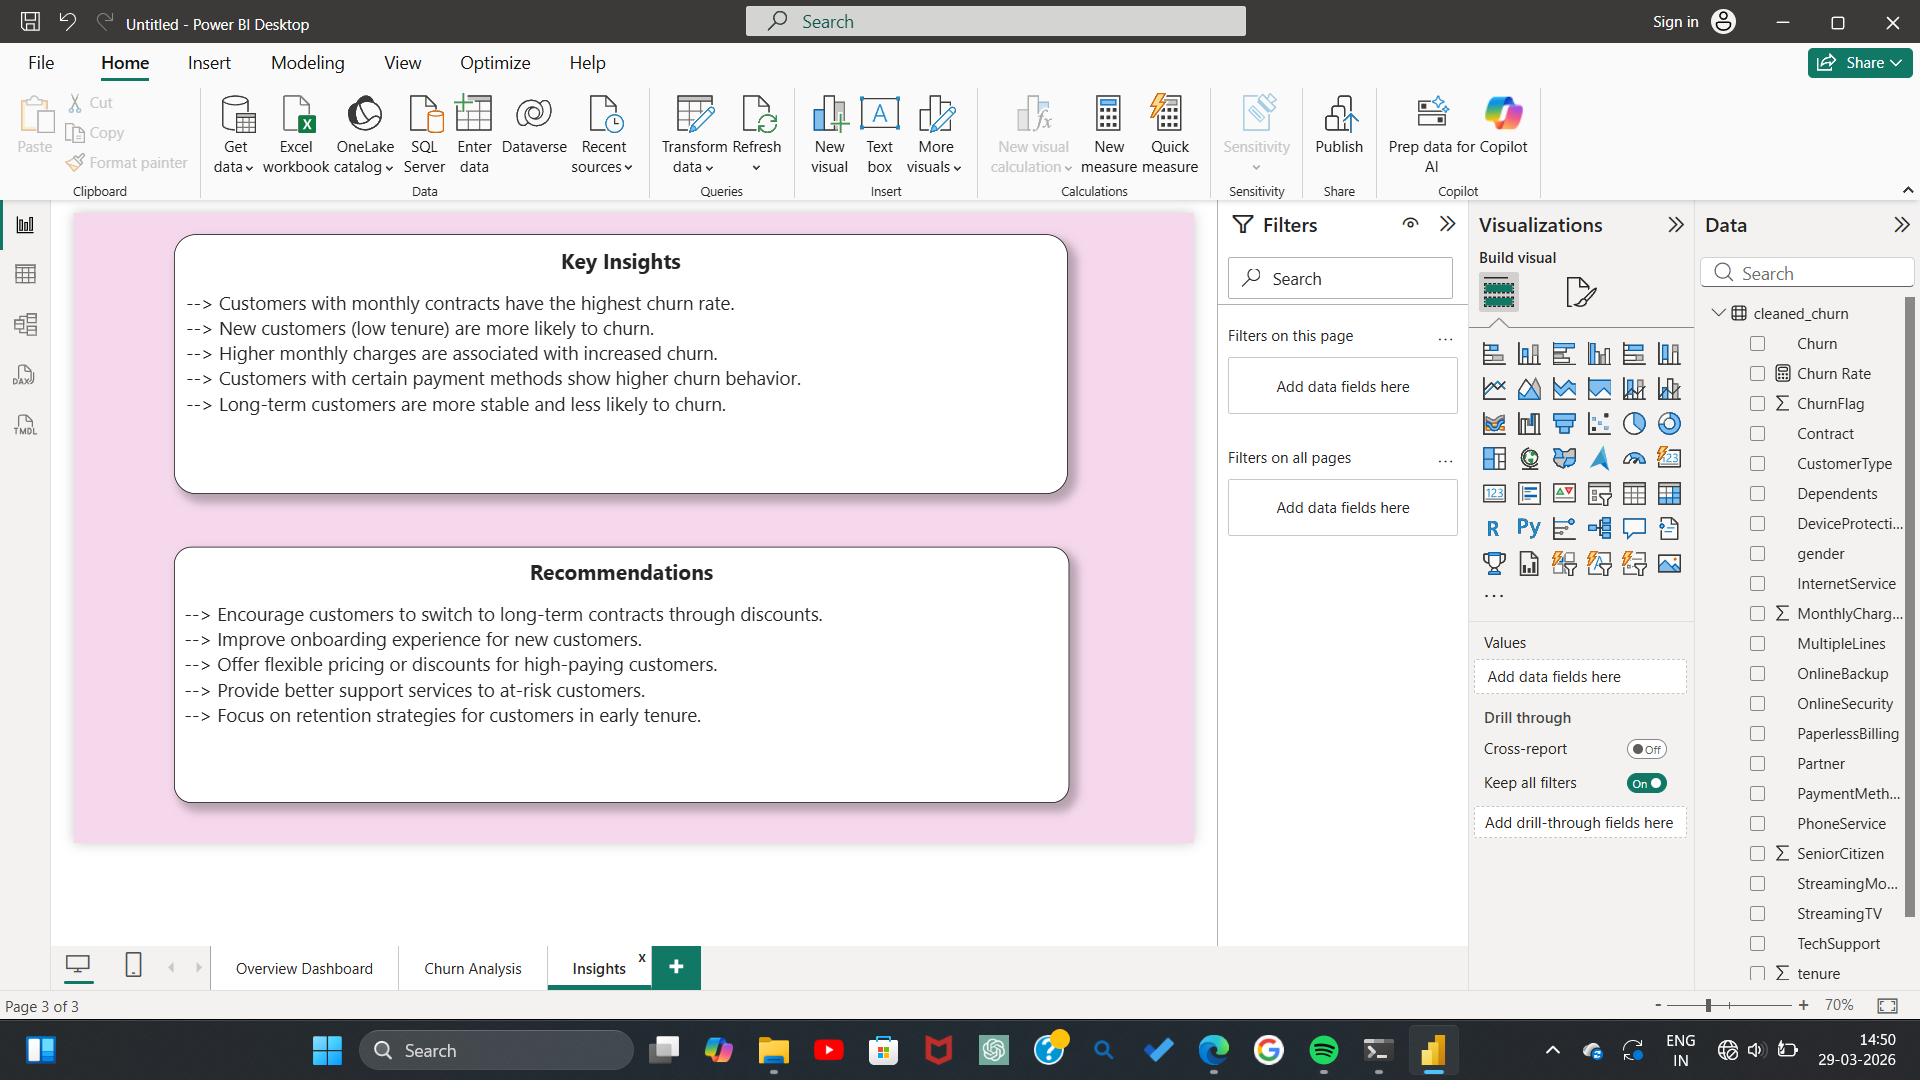

This screenshot's page, from the dashboard's own definition file:
{"tool":"powerbi","page":{"name":"Insights","canvas":[1280,720],"ordinal":2},"visuals":[{"type":"textbox","box":[114.5,24.6,1021.7,297.1],"z":0},{"type":"textbox","box":[114.5,381.2,1023.2,292.8],"z":1000}]}

Visuals, with their boxes on the page's 1280x720 design canvas (x1, y1, x2, y2). These are canvas units, not pixel positions in the 1920x1080 screenshot, which may show the page scaled, cropped or inside an application window:
textbox: 114, 25, 1136, 322
textbox: 114, 381, 1138, 674
